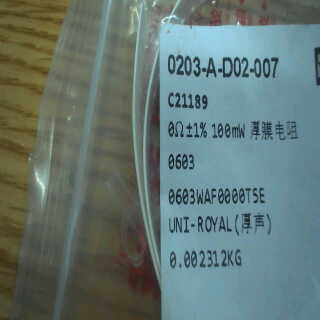0R: (167, 113, 249, 174)
